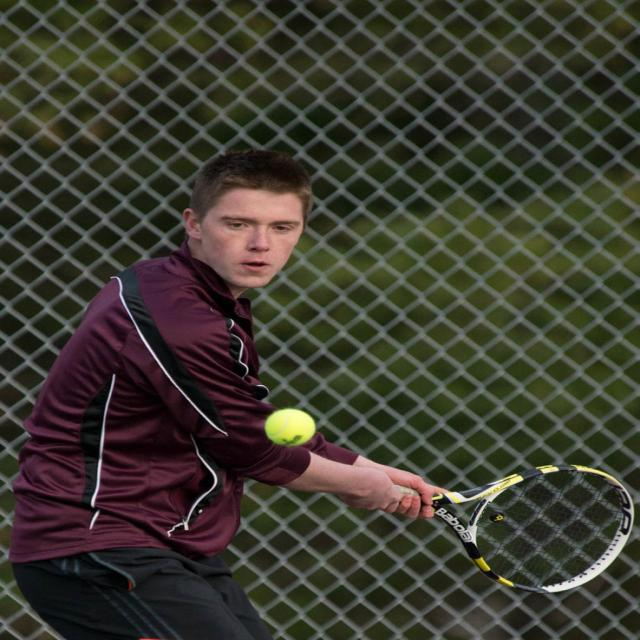Tennis ball: (266, 408, 317, 448)
